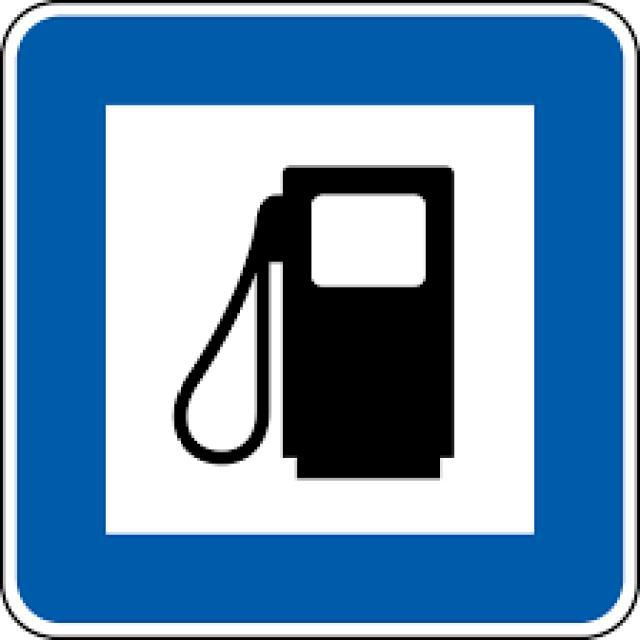petrol pump ahead: (23, 22, 620, 608)
